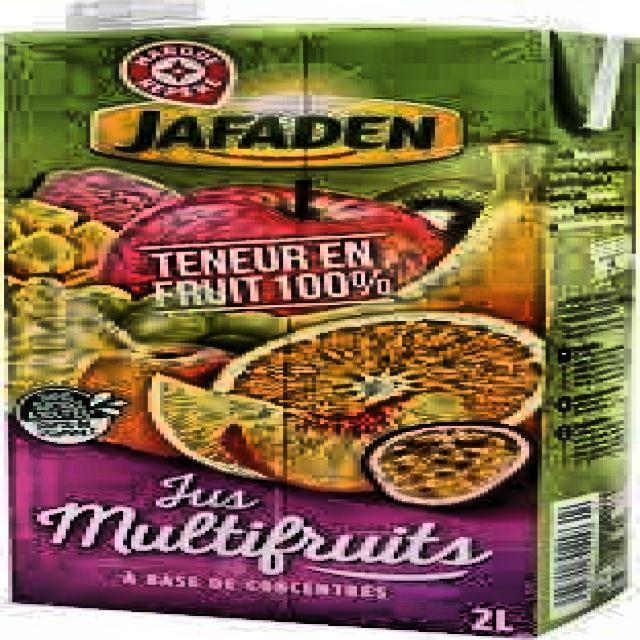cardboard: (0, 22, 636, 636)
